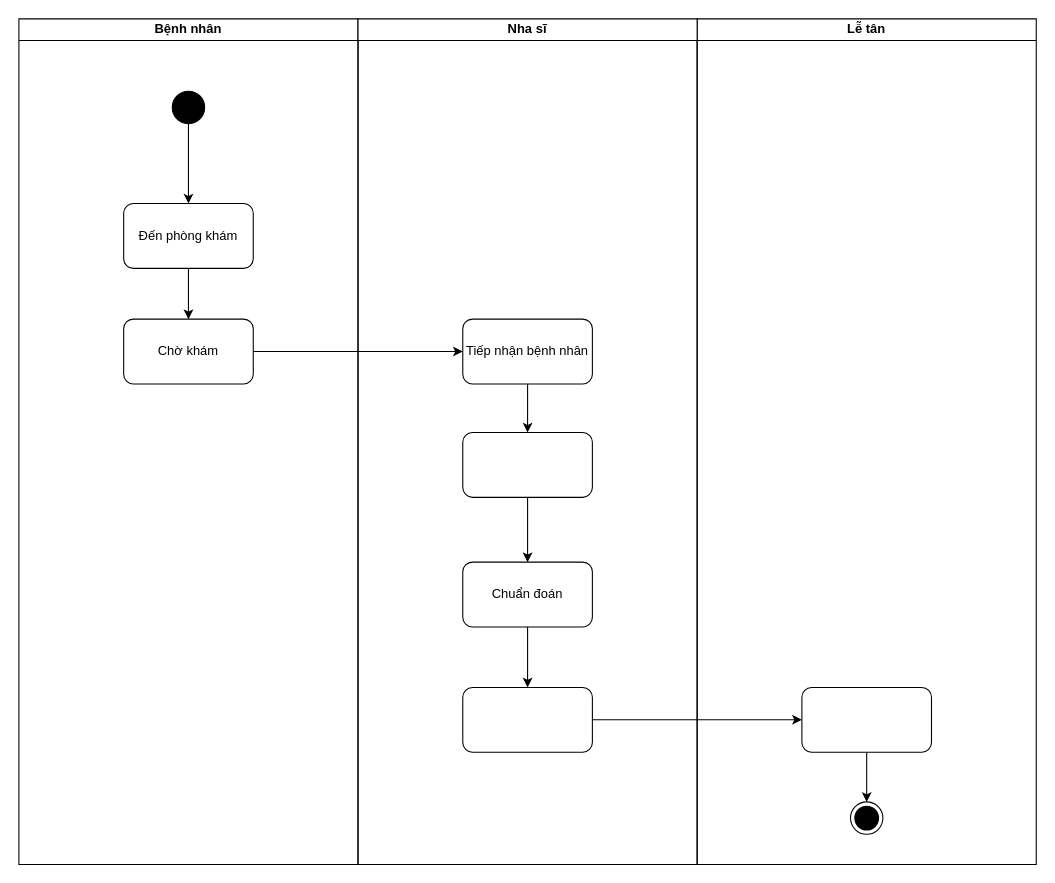
This 1055x883 diagram has some shape labels left out. Here are the shapes that lost their labels. From the top down, the centre of each, then its label:
At point (527, 464): "Khám bệnh".
At point (527, 719): "Ghi nhận MedicalRecord".
At point (866, 719): "Thanh toán".
